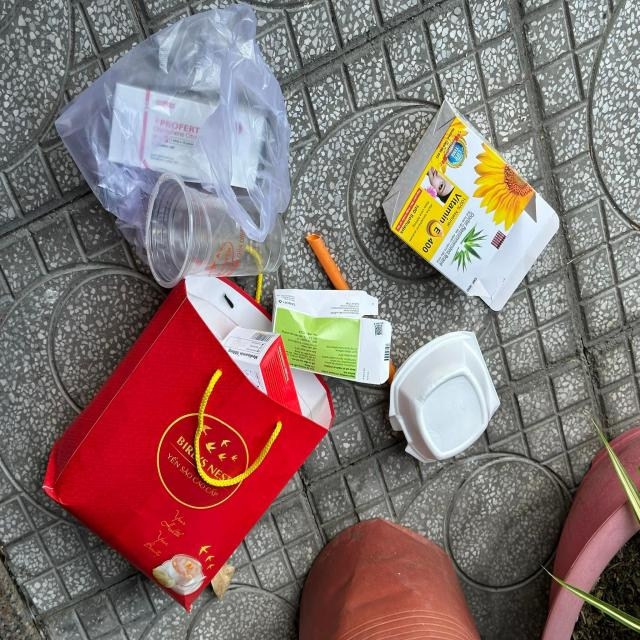bag: (41, 260, 338, 613)
cardboard box: (382, 100, 560, 312), (274, 288, 391, 384), (221, 326, 303, 418)
drinking straw: (306, 234, 352, 290)
foam box: (389, 331, 501, 463)
plastic glass: (144, 170, 286, 288)
trash bag: (56, 5, 291, 240)
